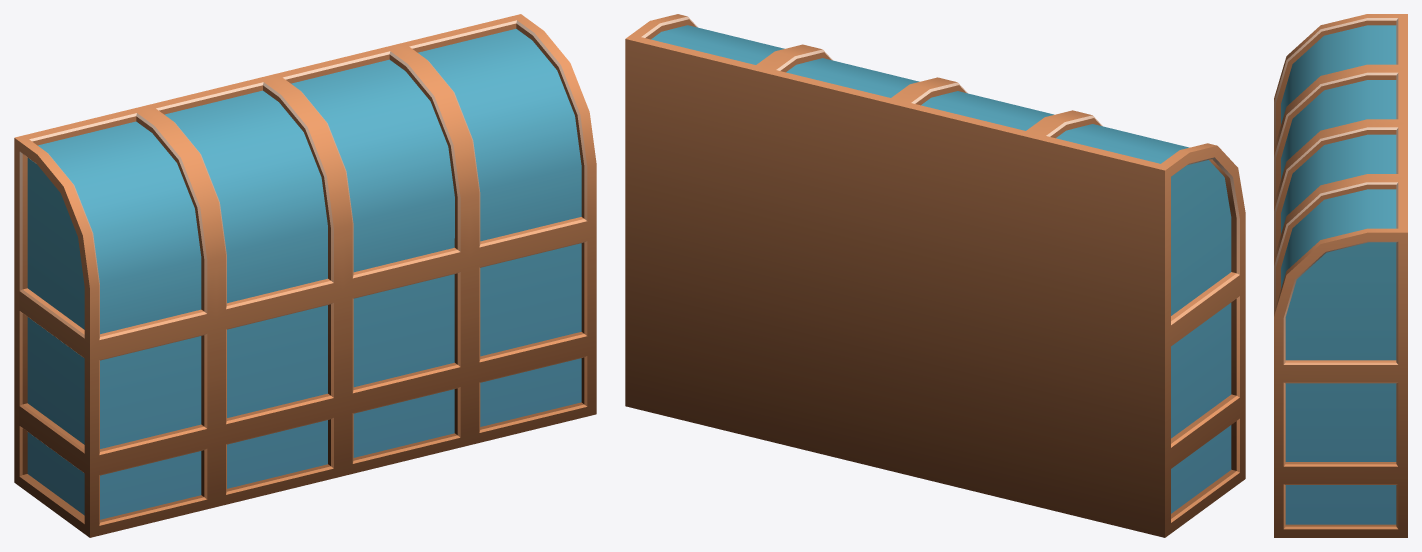
Rendered from sp_build_prop_window_01.fbx.
3 views of the same model, side by side, from view 1: azimuth 30°, elevation 25°; view 2: azimuth 150°, elevation 25°; view 3: azimuth 270°, elevation 25° (orthographic). The views are drawn at different scales.
Visible parts, largest first — view 1: build_prop_window_01; view 2: build_prop_window_01; view 3: build_prop_window_01.
Boxes of the visible parts, x1=… form: build_prop_window_01: x1=14, y1=14, x2=596, y2=537; build_prop_window_01: x1=625, y1=14, x2=1245, y2=537; build_prop_window_01: x1=1274, y1=14, x2=1407, y2=537.
Size of the model in its own units: 450 by 293 by 117.
